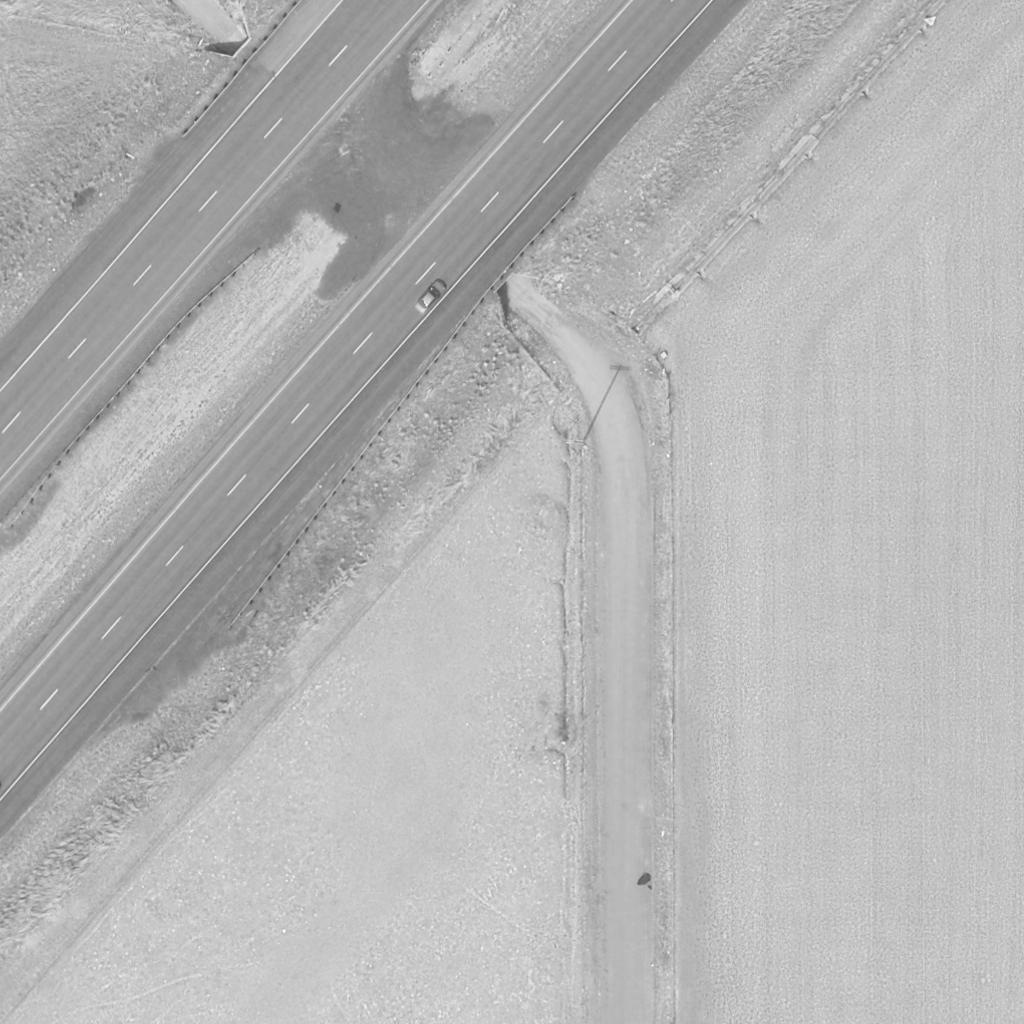vehicle: (413, 280, 447, 316)
